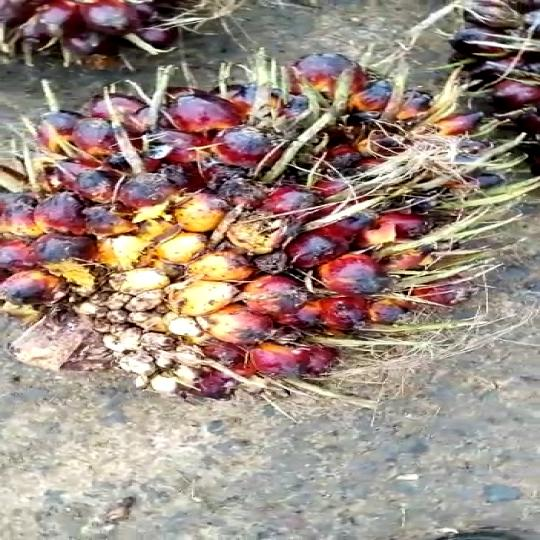kurang masak: (0, 43, 540, 423)
